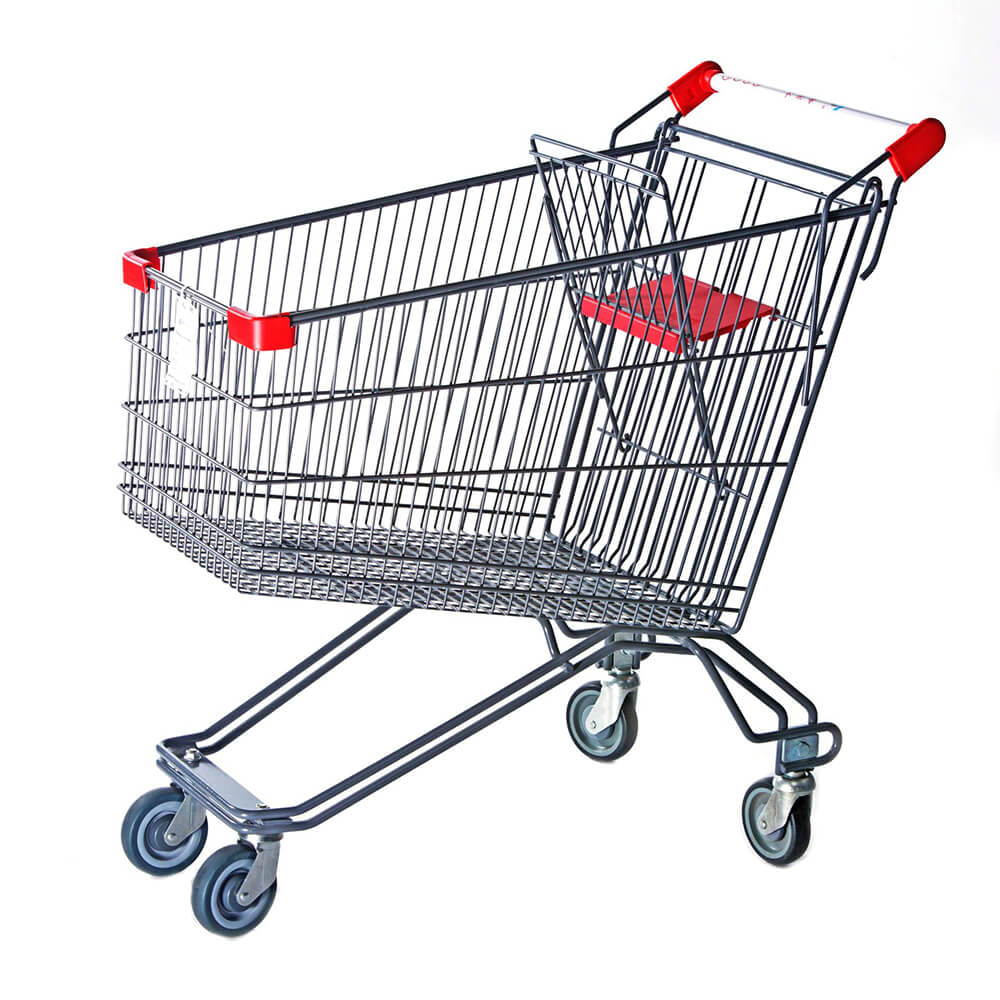with_basket: (88, 58, 942, 955)
